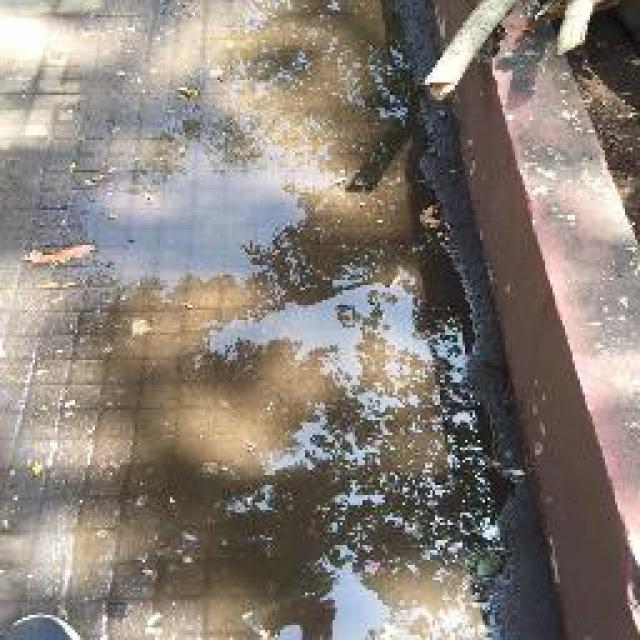puddle: (99, 1, 513, 640)
